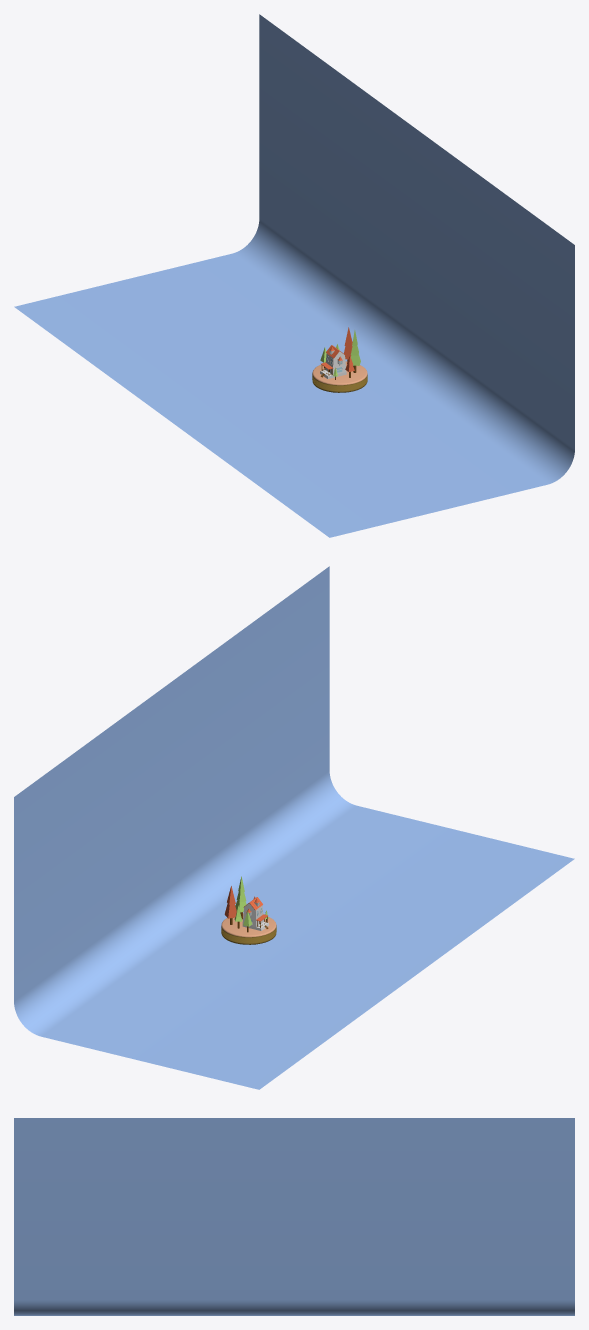
Rendered from house2.gltf.
3 views of the same model, one above another, from view 1: azimuth 30°, elevation 25°; view 2: azimuth 150°, elevation 25°; view 3: azimuth 270°, elevation 25° (orthographic). The views are drawn at different scales.
Visible parts, largest first — view 1: 평면, 실린더; view 2: 평면, 실린더; view 3: 평면.
Boxes of the visible parts, bbox=[...] form: 평면: bbox=[14, 14, 574, 537]; 실린더: bbox=[312, 361, 367, 392]; 평면: bbox=[14, 566, 574, 1089]; 실린더: bbox=[221, 913, 276, 944]; 평면: bbox=[14, 1118, 574, 1315].
Size of what is drawn, in the model's own units: 10.25 by 9.32 by 22.85.
